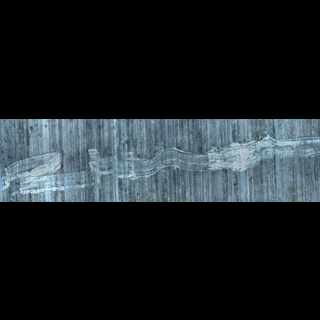d: (2, 130, 320, 196)
